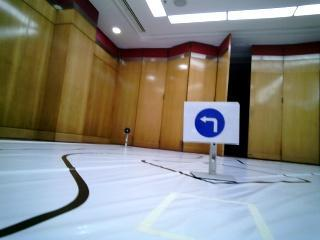left: (185, 101, 237, 135)
